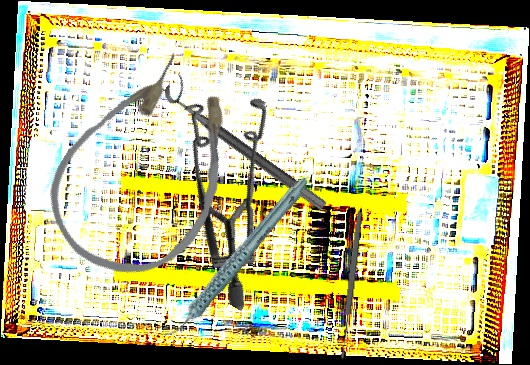Cannula: (24, 32, 272, 302)
Fixation Ring: (159, 71, 338, 213)
Handpiece: (135, 174, 335, 342)
Speculum: (111, 68, 338, 312)
Surgical Spoon: (338, 211, 364, 359)
